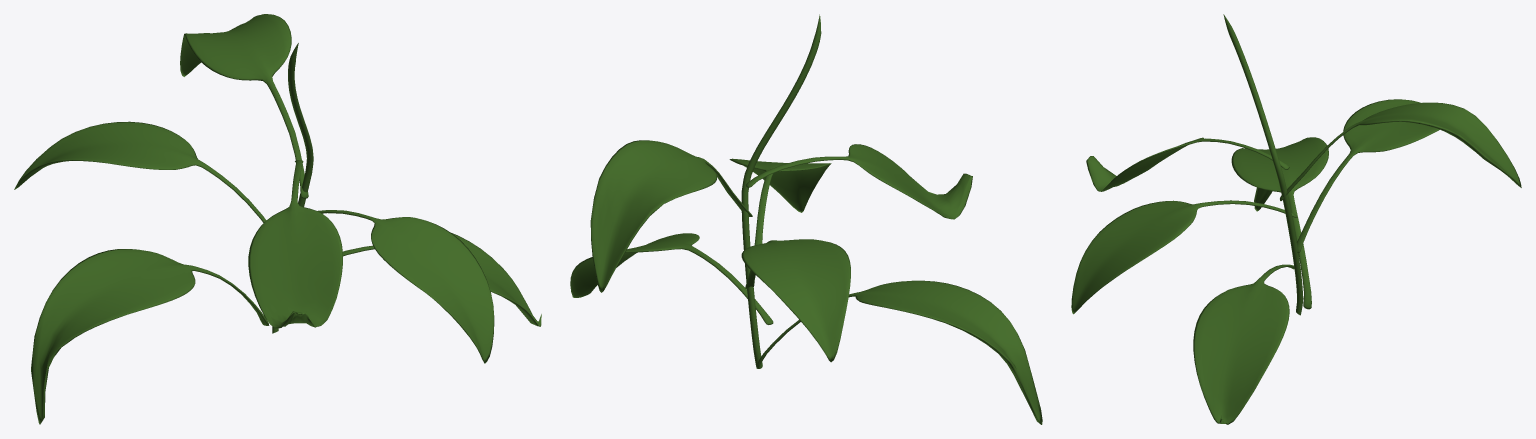
The model's file is Plant1_Small.fbx.
3 renders of one model, left to right at view 1: azimuth 30°, elevation 25°; view 2: azimuth 150°, elevation 25°; view 3: azimuth 270°, elevation 25°, orthographic. The views are drawn at different scales.
Parts seen in each view (by area): view 1: Leaf, Stem; view 2: Leaf, Stem; view 3: Leaf, Stem.
Part boxes in pixels (x1,y1,x2,y2): Leaf: (14, 14, 541, 424); Stem: (272, 43, 313, 333); Leaf: (570, 140, 1042, 424); Stem: (741, 14, 821, 368); Leaf: (1071, 99, 1521, 424); Stem: (1223, 14, 1303, 315).
Size of the model in its own units: 986 by 666 by 889.
